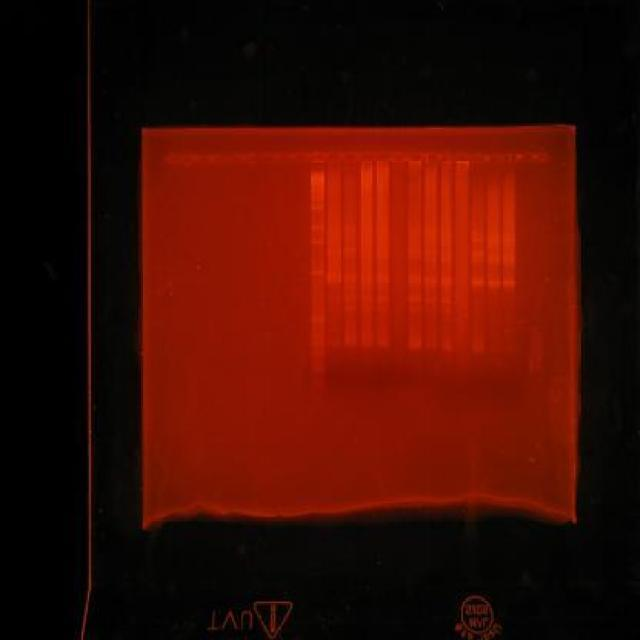B: (326, 272, 342, 280), (408, 343, 423, 351), (424, 343, 438, 351), (439, 308, 453, 316), (376, 305, 390, 313), (376, 342, 390, 349), (470, 232, 486, 238), (342, 274, 358, 280), (326, 296, 342, 302), (470, 300, 486, 306), (374, 234, 390, 240), (342, 300, 358, 306), (501, 237, 516, 243), (408, 296, 422, 302), (376, 280, 390, 286), (376, 274, 390, 280), (408, 280, 422, 286), (423, 297, 437, 303), (440, 298, 454, 304), (424, 276, 438, 282), (408, 307, 422, 313), (470, 278, 484, 284), (470, 250, 484, 256), (502, 258, 516, 264), (486, 284, 500, 290), (486, 258, 500, 264), (486, 254, 500, 260), (343, 246, 357, 252), (360, 342, 374, 348), (408, 247, 422, 253), (439, 346, 453, 352), (502, 347, 516, 353), (359, 254, 373, 260), (408, 230, 422, 236), (343, 253, 357, 259), (408, 234, 422, 240), (374, 296, 390, 301), (342, 295, 358, 300), (358, 296, 374, 301), (326, 250, 342, 255), (342, 229, 358, 234), (422, 256, 438, 261), (326, 279, 342, 284), (501, 233, 517, 238), (326, 306, 342, 311), (326, 255, 342, 260), (407, 276, 422, 281), (344, 279, 358, 284), (470, 283, 484, 288), (502, 279, 516, 284), (486, 280, 500, 285), (439, 282, 453, 287), (470, 259, 484, 264), (343, 342, 357, 347), (408, 255, 422, 260), (326, 229, 340, 234), (343, 305, 357, 310), (359, 276, 373, 281), (360, 280, 374, 285), (486, 233, 500, 238), (424, 236, 438, 241), (376, 256, 390, 261), (342, 238, 358, 242), (342, 234, 358, 238), (326, 302, 342, 306), (470, 238, 484, 242), (424, 282, 438, 286), (502, 284, 516, 288), (439, 278, 453, 282), (502, 254, 516, 258), (328, 342, 342, 346), (470, 348, 484, 352), (486, 238, 500, 242), (440, 258, 452, 262), (440, 304, 452, 308), (470, 256, 484, 258)
L: (160, 147, 556, 170)
M: (308, 170, 328, 398)
P: (310, 378, 326, 396), (310, 362, 326, 376), (310, 316, 326, 324), (310, 203, 324, 211), (310, 224, 324, 232), (310, 238, 326, 245), (310, 332, 326, 339), (310, 270, 326, 276), (310, 341, 326, 347), (310, 350, 326, 356), (310, 194, 324, 200)
Pc: (502, 151, 520, 164), (374, 150, 390, 164), (471, 152, 487, 166), (424, 150, 439, 164), (309, 151, 325, 164), (326, 150, 342, 163), (342, 150, 358, 163), (358, 150, 374, 163), (535, 151, 551, 164), (440, 152, 454, 166), (407, 150, 422, 163), (164, 154, 180, 166), (454, 153, 471, 164), (519, 152, 535, 163), (244, 152, 260, 163), (228, 153, 244, 164), (391, 152, 406, 163), (488, 153, 502, 164), (278, 152, 292, 163), (214, 154, 228, 164), (197, 154, 211, 164), (182, 154, 196, 163), (262, 153, 276, 162), (294, 152, 308, 160)
